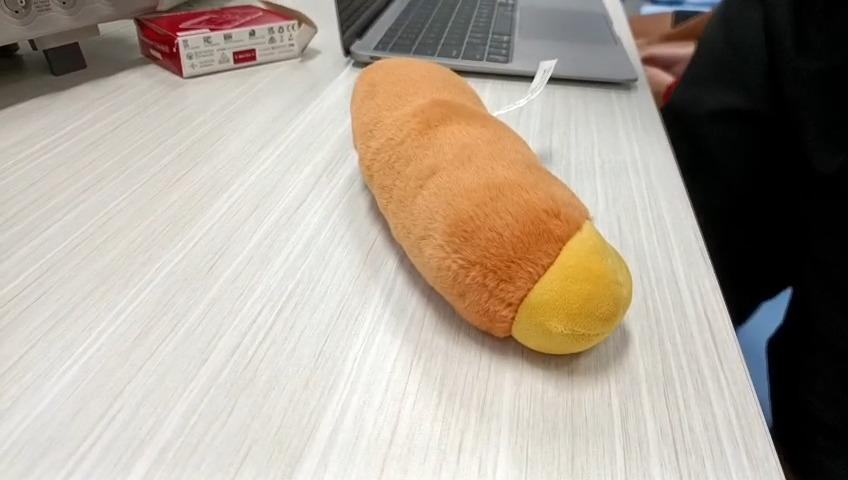hotdog: (350, 57, 633, 355)
